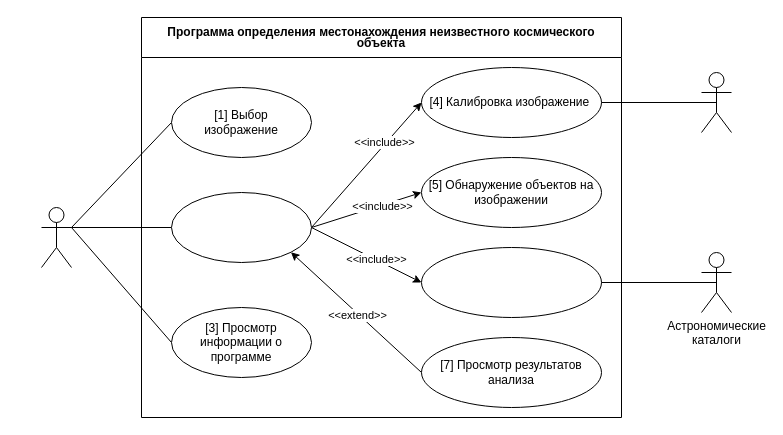
This 783x435 diagram has some shape labels left out. Each missing label, with the centre of its shape:
"<<API>> Astrometry.NET" goes at point 716,102.
"[2] Запуск анализа изображения" goes at point 241,227.
"[6] Проверка объектов по астрономическим каталогам" goes at point 511,282.
"Пользователь" goes at point 56,237.
